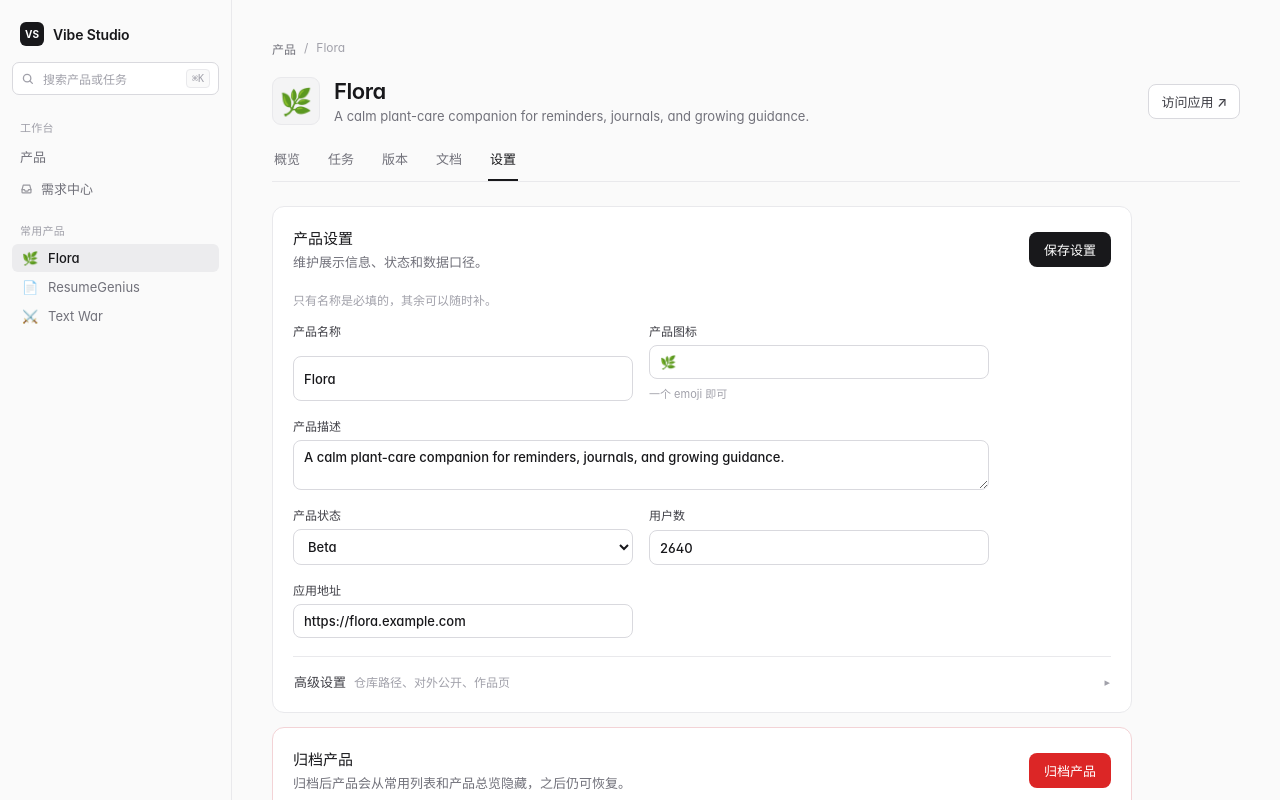
product workspace › archives only after confirmation and hides the product from the active overview
The image size is (1280, 800).
Click the button "归档产品" at (1070, 770), box [1029,752,1111,788]
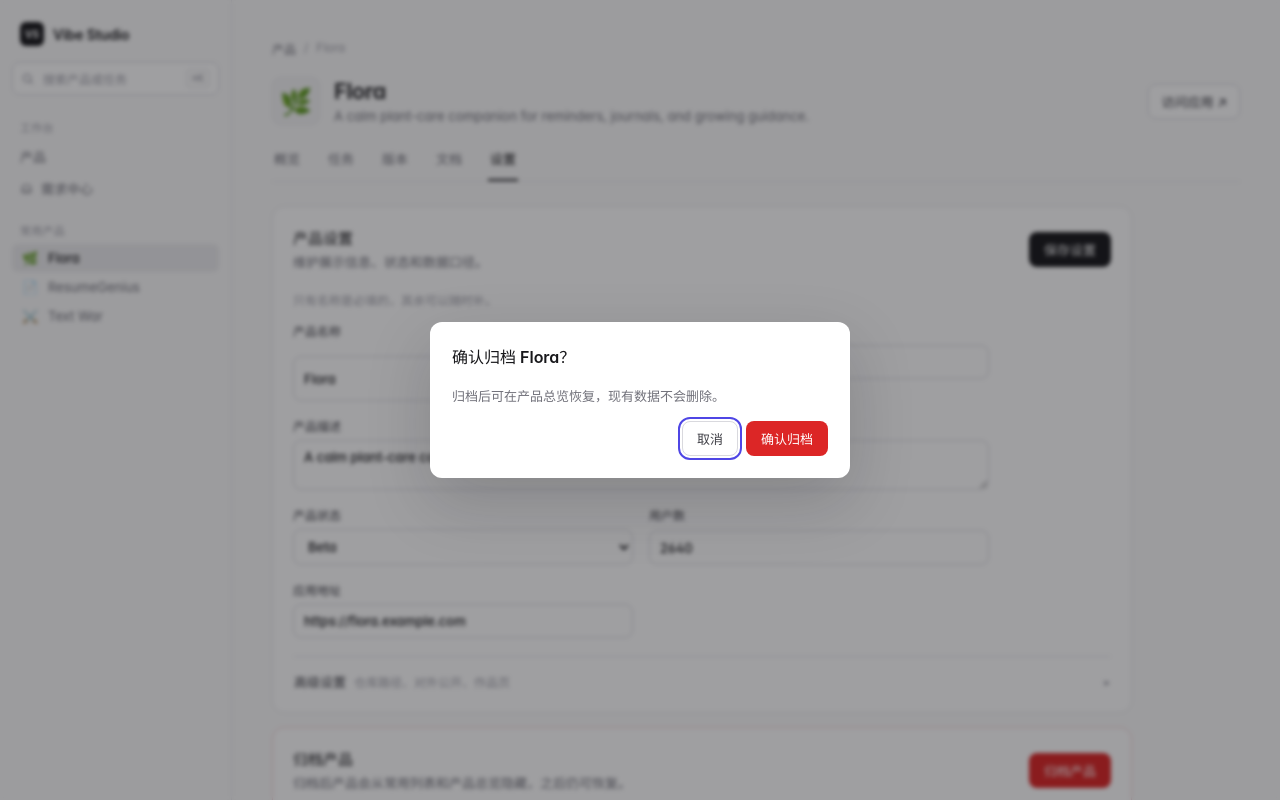
Expected: the text "归档后可在产品总览恢复，现有数据不会删除。" is shown, [452,388,725,404]
Click the button "确认归档" at (787, 438), box [746,421,828,456]
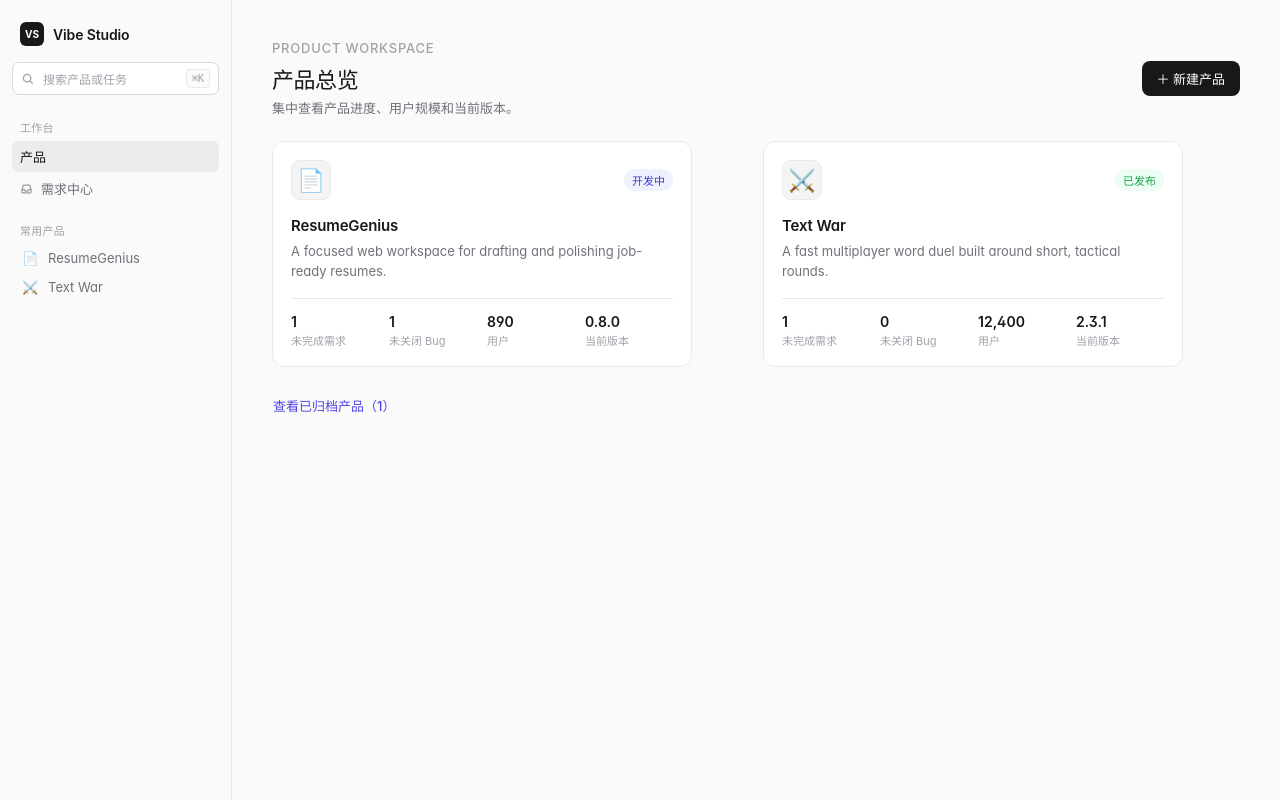
Expected: the heading "产品总览" is shown, [272,67,358,93]
Expected: the link "Flora" is gone
